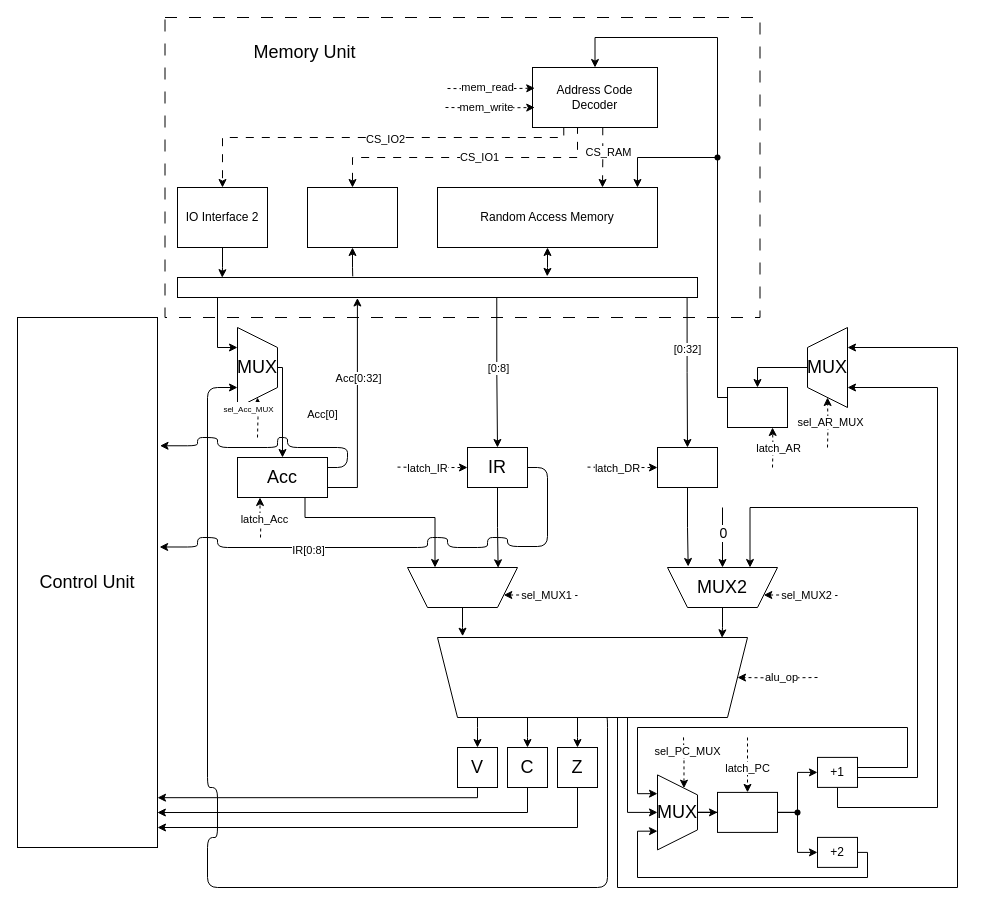
The diagram is 983 pixels wide and 913 high, and some of its shapes have lost their labels. The shapes that lost their labels are listed below. From the top down, each one's centre as x and y in pixels, then its label:
At [352,217]: "IO Interface 1".
At [437,287]: "Шина данных".
At [757,407]: "AR".
At [687,467]: "DR".
At [462,587]: "MUX1".
At [592,677]: "ALU".
At [747,811]: "PC".
